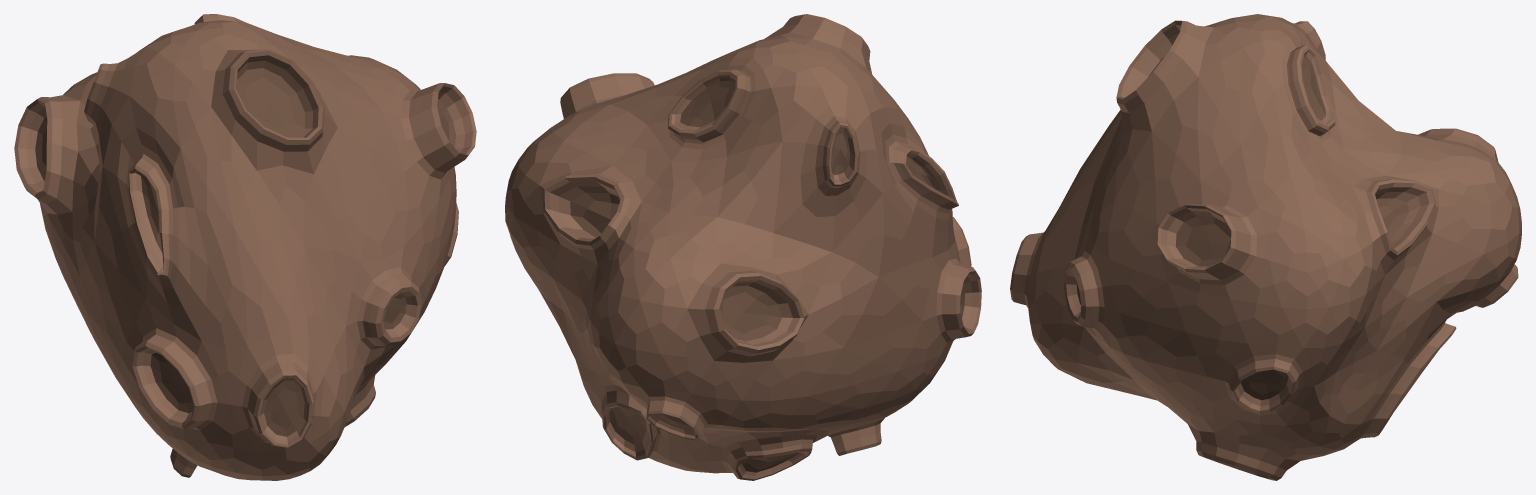
Rendered from Meteor4.fbx.
3 renders of one model, left to right at view 1: azimuth 30°, elevation 25°; view 2: azimuth 150°, elevation 25°; view 3: azimuth 270°, elevation 25°, orthographic. The views are drawn at different scales.
Parts seen in each view (by area): view 1: Meteor4; view 2: Meteor4; view 3: Meteor4.
Part boxes in pixels (bbox=[...]): Meteor4: bbox=[14, 14, 476, 480]; Meteor4: bbox=[505, 14, 981, 480]; Meteor4: bbox=[1010, 14, 1521, 480].
Size of the model in its own units: 2.37 by 2.58 by 2.91.
